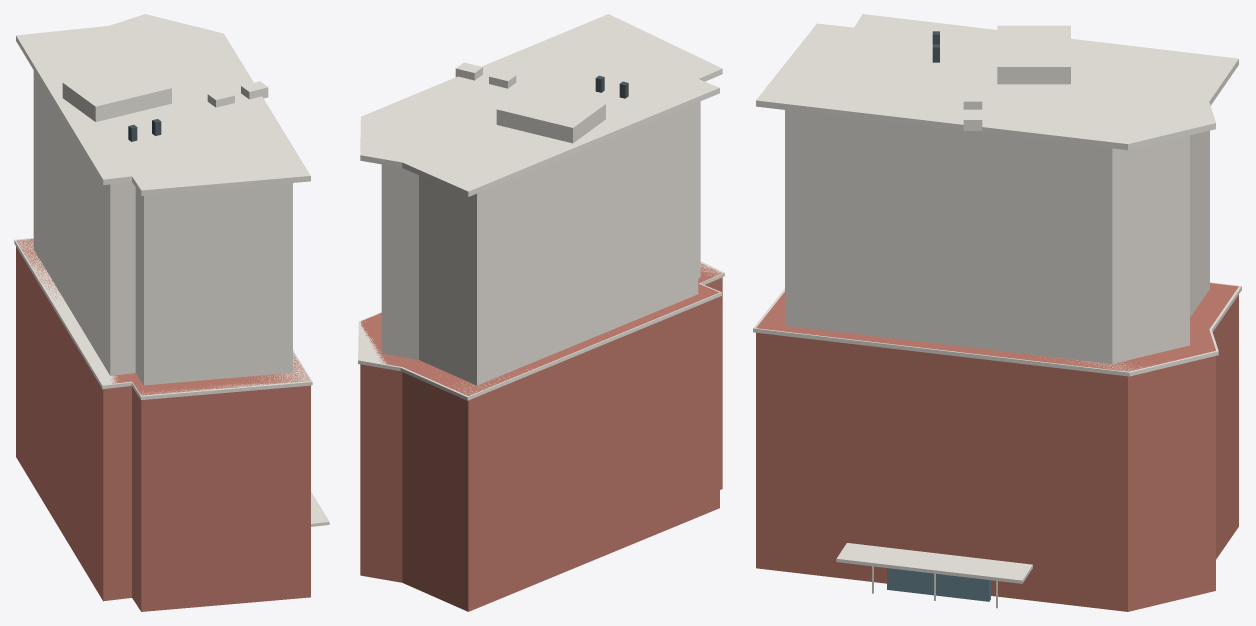
Rendered from shirley_chan_building.glb.
3 views of the same model, side by side, from view 1: azimuth 30°, elevation 25°; view 2: azimuth 150°, elevation 25°; view 3: azimuth 270°, elevation 25° (orthographic). The views are drawn at different scales.
Visible parts, largest first — view 1: Shirley Chan Building_base, Shirley Chan Building_upper, Shirley Chan Building_parapet, Shirley Chan Building_band, Shirley Chan Building_roof_plant; view 2: Shirley Chan Building_base, Shirley Chan Building_upper, Shirley Chan Building_parapet, Shirley Chan Building_roof_plant, Shirley Chan Building_band; view 3: Shirley Chan Building_base, Shirley Chan Building_upper, Shirley Chan Building_parapet, Shirley Chan Building_roof_plant, Shirley Chan Building_canopy, Shirley Chan Building_band, Shirley Chan Building_door.
Boxes of the visible parts, <box> form: Shirley Chan Building_base: <box>16,239,310,611</box>; Shirley Chan Building_upper: <box>33,70,292,385</box>; Shirley Chan Building_parapet: <box>16,14,310,195</box>; Shirley Chan Building_band: <box>14,238,312,399</box>; Shirley Chan Building_roof_plant: <box>62,64,171,121</box>; Shirley Chan Building_base: <box>360,263,722,611</box>; Shirley Chan Building_upper: <box>381,101,700,385</box>; Shirley Chan Building_parapet: <box>360,14,722,196</box>; Shirley Chan Building_roof_plant: <box>496,85,605,143</box>; Shirley Chan Building_band: <box>358,261,724,400</box>; Shirley Chan Building_base: <box>756,283,1238,611</box>; Shirley Chan Building_upper: <box>785,110,1209,363</box>; Shirley Chan Building_parapet: <box>756,14,1238,150</box>; Shirley Chan Building_roof_plant: <box>997,25,1070,84</box>; Shirley Chan Building_canopy: <box>836,543,1032,583</box>; Shirley Chan Building_band: <box>753,282,1241,376</box>; Shirley Chan Building_door: <box>887,568,990,601</box>.
Size of the model in its own units: 26.85 by 43.7 by 39.92.
